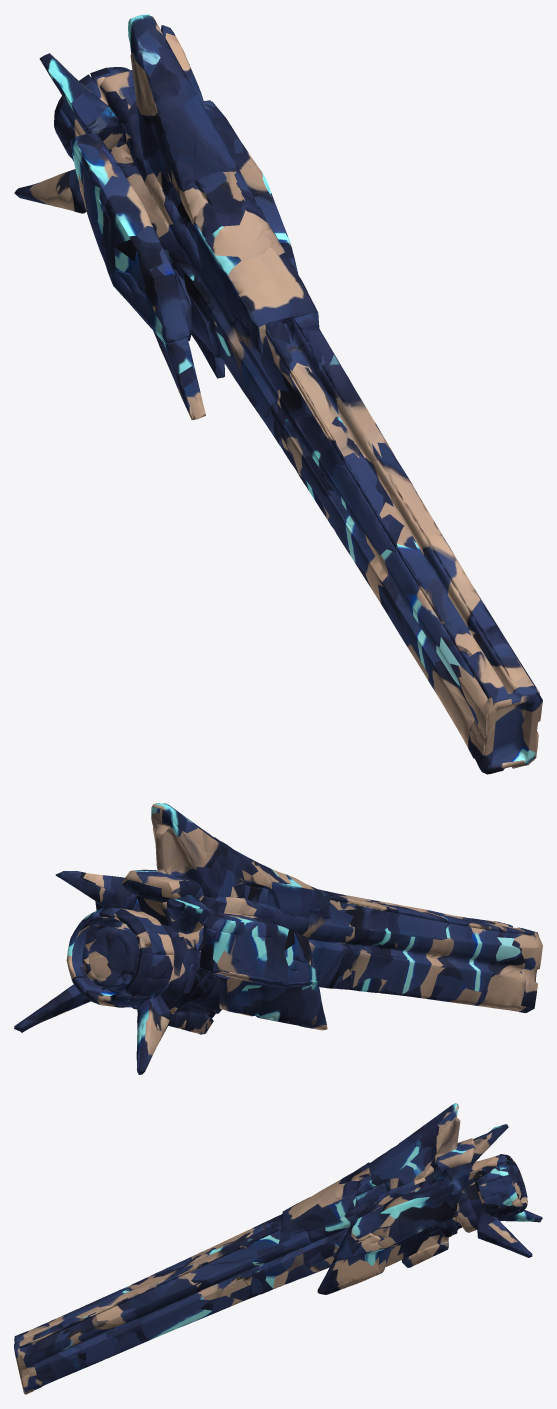
The model's file is FunnelLarge.gltf.
3 renders of one model, top to bottom at view 1: azimuth 30°, elevation 25°; view 2: azimuth 150°, elevation 25°; view 3: azimuth 270°, elevation 25°, orthographic. The views are drawn at different scales.
Visible parts, largest first — view 1: FunnelLarge; view 2: FunnelLarge; view 3: FunnelLarge.
Boxes of the visible parts, box(x1,y1,x2,y2) form: FunnelLarge: box(14, 14, 542, 774); FunnelLarge: box(14, 803, 542, 1074); FunnelLarge: box(14, 1103, 542, 1394).
Size of the model in its own units: 0.2206 by 0.5823 by 0.9803.
1 material, 1 textured.
